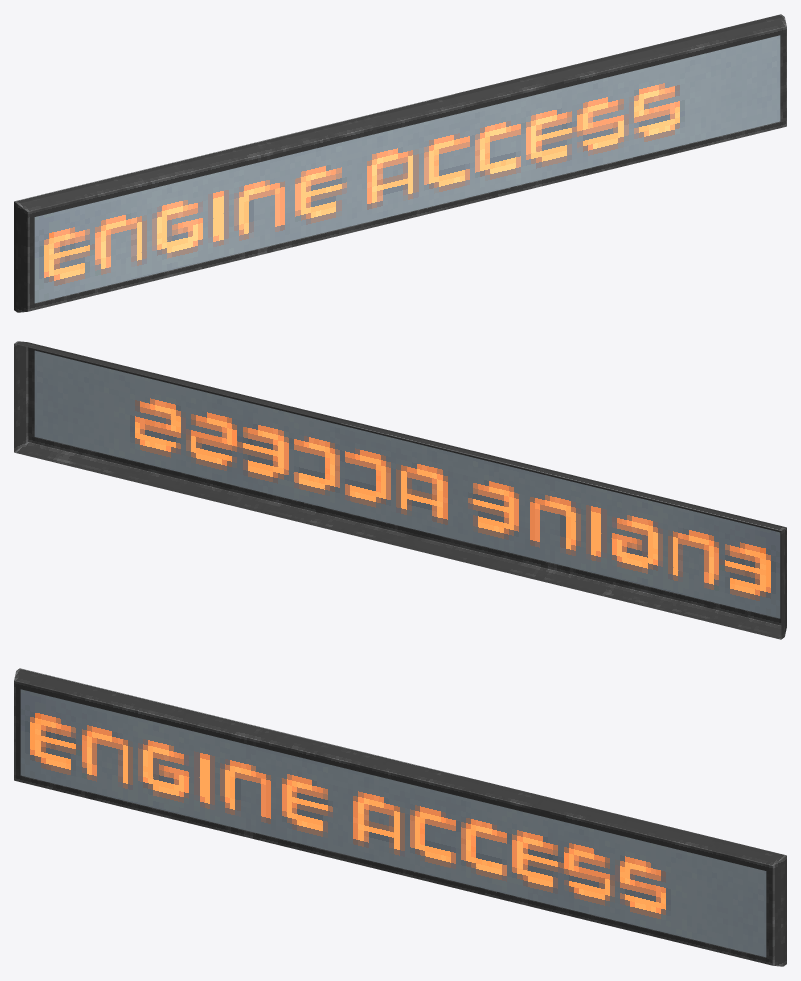
Rendered from large_engineaccess.glb.
The picture shows the model from 3 angles, top to bottom: view 1: azimuth 30°, elevation 25°; view 2: azimuth 150°, elevation 25°; view 3: azimuth 330°, elevation 25°; orthographic projection.
Parts seen in each view (by area): view 1: Sign-Large_EngineAccess; view 2: Sign-Large_EngineAccess; view 3: Sign-Large_EngineAccess.
Part boxes in pixels (<box>): Sign-Large_EngineAccess: <box>14,14,786,312</box>; Sign-Large_EngineAccess: <box>14,341,786,639</box>; Sign-Large_EngineAccess: <box>14,668,786,966</box>.
Bounding box in the file's own units: 18.61 × 2.52 × 0.4128.
Materials: 1 (1 with a texture image).
